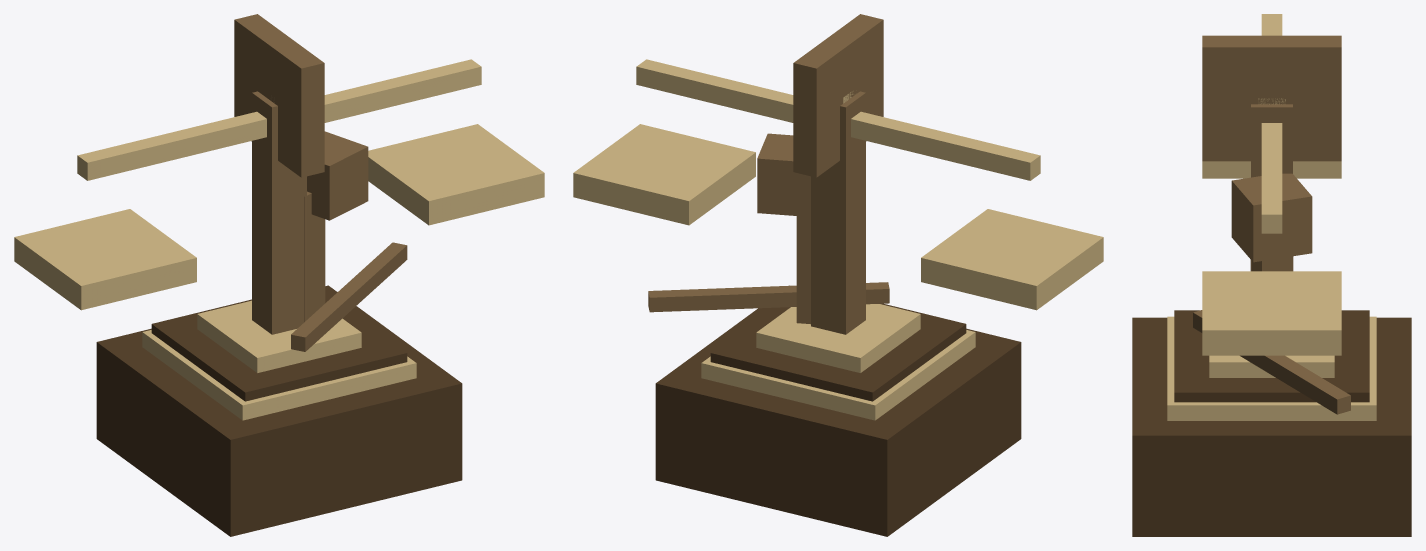
The model's file is character-items-01.glb.
The picture shows the model from 3 angles, left to right: view 1: azimuth 30°, elevation 25°; view 2: azimuth 150°, elevation 25°; view 3: azimuth 270°, elevation 25°; orthographic projection. The views are drawn at different scales.
Parts seen in each view (by area): view 1: ObjStupka, ObjVesy, ObjChernilnitsa; view 2: ObjStupka, ObjVesy, ObjChernilnitsa; view 3: ObjStupka, ObjVesy, ObjChernilnitsa.
Boxes of the visible parts, x1=… form: ObjStupka: x1=96, y1=131, x2=462, y2=536; ObjVesy: x1=14, y1=14, x2=544, y2=334; ObjChernilnitsa: x1=151, y1=242, x2=407, y2=401; ObjStupka: x1=655, y1=133, x2=1021, y2=536; ObjVesy: x1=573, y1=14, x2=1103, y2=334; ObjChernilnitsa: x1=648, y1=282, x2=966, y2=401; ObjStupka: x1=1132, y1=173, x2=1411, y2=536; ObjVesy: x1=1202, y1=14, x2=1341, y2=355; ObjChernilnitsa: x1=1174, y1=310, x2=1369, y2=414.
Bounding box in the file's own units: 0.4 × 0.345 × 0.2.
